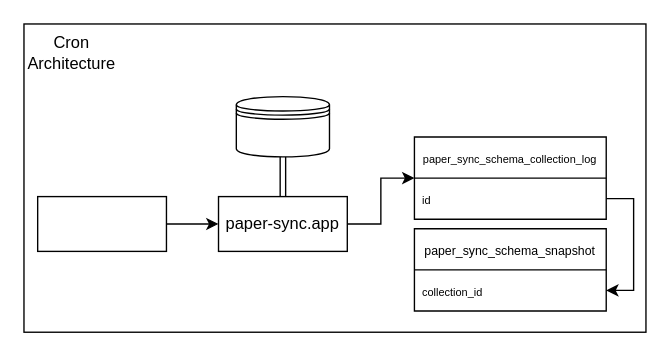
This 670x356 diagram has some shape labels left out. Each missing label, with the centre of its shape:
"database" belongs at (x=282, y=126).
"inventory.yaml" belongs at (x=101, y=223).
